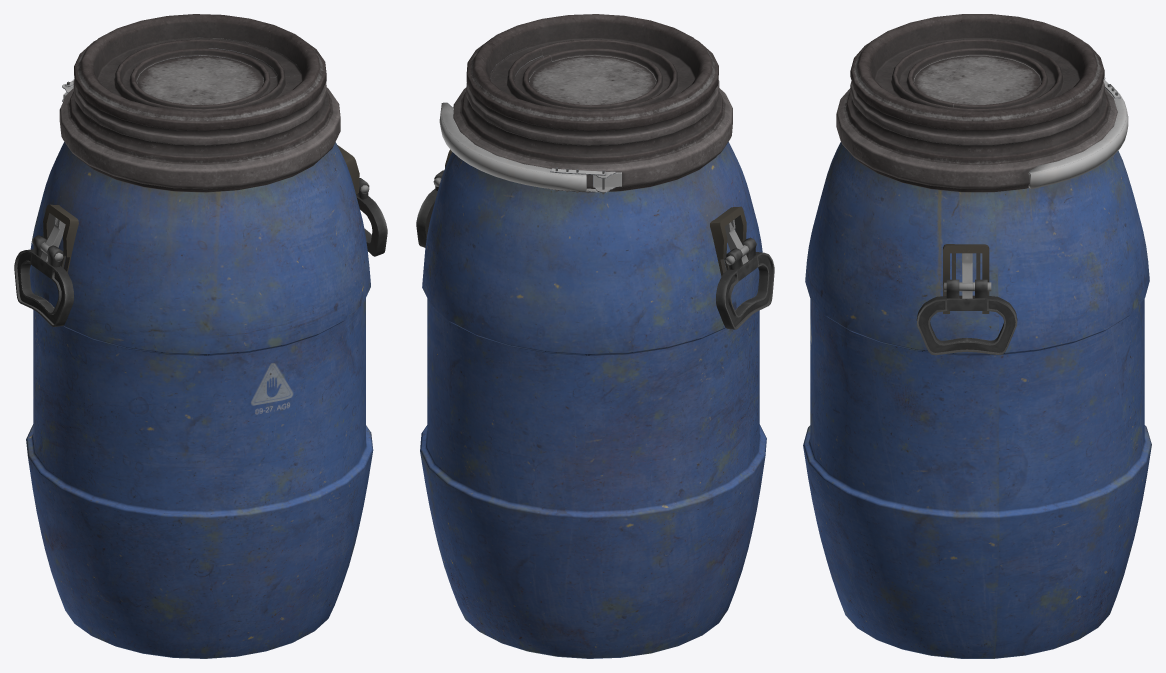
The model's file is SM_Plastic_Barrel.fbx.
The picture shows the model from 3 angles, left to right: view 1: azimuth 30°, elevation 25°; view 2: azimuth 150°, elevation 25°; view 3: azimuth 270°, elevation 25°; orthographic projection.
Visible parts, largest first — view 1: SM_Plastic_Barrel_LOD0; view 2: SM_Plastic_Barrel_LOD0; view 3: SM_Plastic_Barrel_LOD0.
Part boxes in pixels (<box>): SM_Plastic_Barrel_LOD0: <box>14,14,387,658</box>; SM_Plastic_Barrel_LOD0: <box>416,14,774,658</box>; SM_Plastic_Barrel_LOD0: <box>803,14,1151,658</box>.
Bounding box in the file's own units: 83.33 × 77.74 × 133.
1 material, 1 textured.
